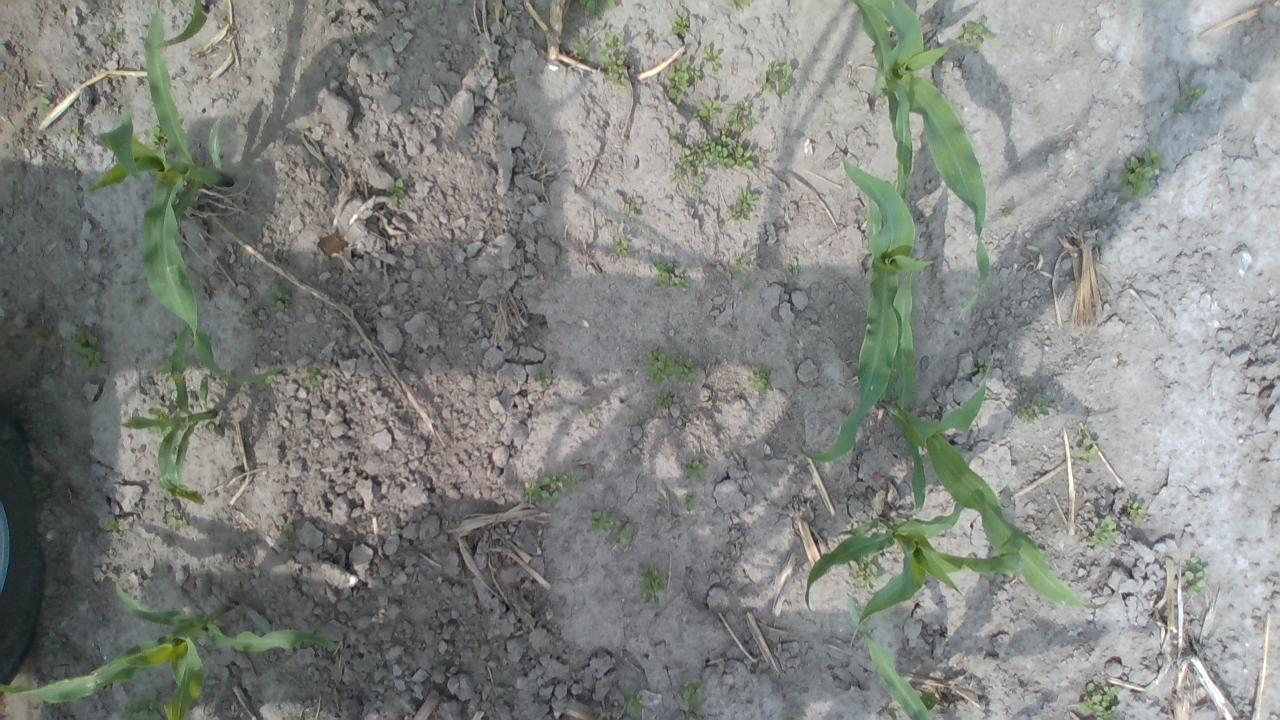Maize: (85, 0, 284, 391), (877, 371, 1119, 614), (0, 578, 326, 720), (851, 0, 990, 320), (794, 150, 934, 464), (802, 500, 1016, 642), (124, 328, 220, 510), (842, 594, 940, 720)
Weeds: (672, 127, 764, 172), (1116, 143, 1164, 200), (645, 348, 700, 386), (522, 470, 576, 505), (598, 30, 630, 89), (67, 324, 105, 373), (953, 14, 999, 54), (590, 510, 640, 546), (1077, 682, 1119, 720), (638, 558, 671, 604), (120, 689, 164, 720), (676, 676, 705, 720), (1079, 516, 1116, 550), (1016, 392, 1052, 426), (760, 61, 792, 98), (653, 258, 689, 290), (664, 59, 688, 106), (850, 553, 880, 588), (1182, 557, 1208, 593), (730, 190, 760, 221), (1172, 83, 1204, 112), (726, 98, 752, 129), (264, 280, 290, 310), (692, 95, 719, 121), (1074, 436, 1100, 463), (750, 366, 774, 394), (386, 178, 409, 206), (147, 122, 168, 152), (1126, 498, 1148, 526), (623, 686, 642, 714), (238, 302, 258, 328), (703, 46, 721, 74), (730, 250, 751, 274), (610, 233, 630, 258), (102, 26, 124, 48), (918, 691, 941, 712), (670, 15, 690, 37), (302, 366, 324, 386), (534, 366, 553, 388), (578, 0, 604, 16), (685, 459, 704, 480), (688, 172, 706, 194), (654, 390, 673, 410), (165, 511, 185, 530), (37, 93, 55, 114), (157, 367, 176, 384), (574, 37, 588, 60), (1003, 200, 1018, 221), (102, 518, 122, 532), (976, 357, 990, 376), (788, 258, 802, 276), (682, 495, 696, 513), (584, 401, 598, 419), (628, 202, 642, 219), (154, 402, 172, 414), (132, 294, 145, 310), (729, 0, 752, 9), (690, 64, 702, 80), (604, 0, 618, 9), (671, 170, 681, 182), (72, 127, 80, 140), (638, 415, 646, 424)
